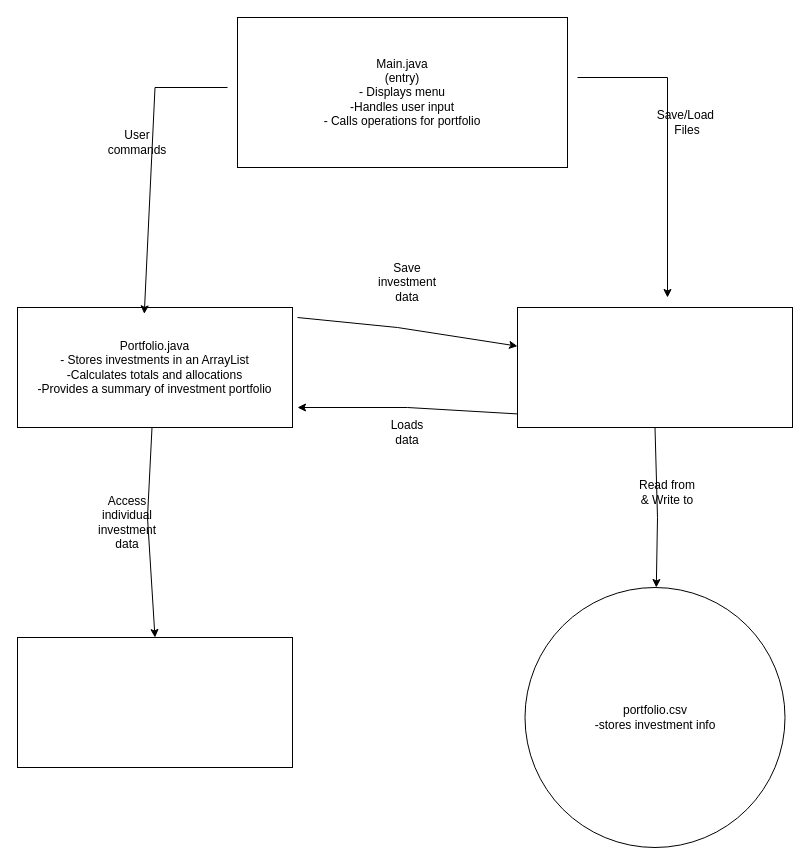
This 810x865 diagram has some shape labels left out. The shapes that lost their labels are listed below. From the top down, each one's centre as x and y in pixels, then its label:
point (654, 367): FileManager.java -Reads/writes CSV Converts data to or from objects
point (154, 702): Investment.java - Stores tickers, shares, prices -Calculates value, P/L, returns
